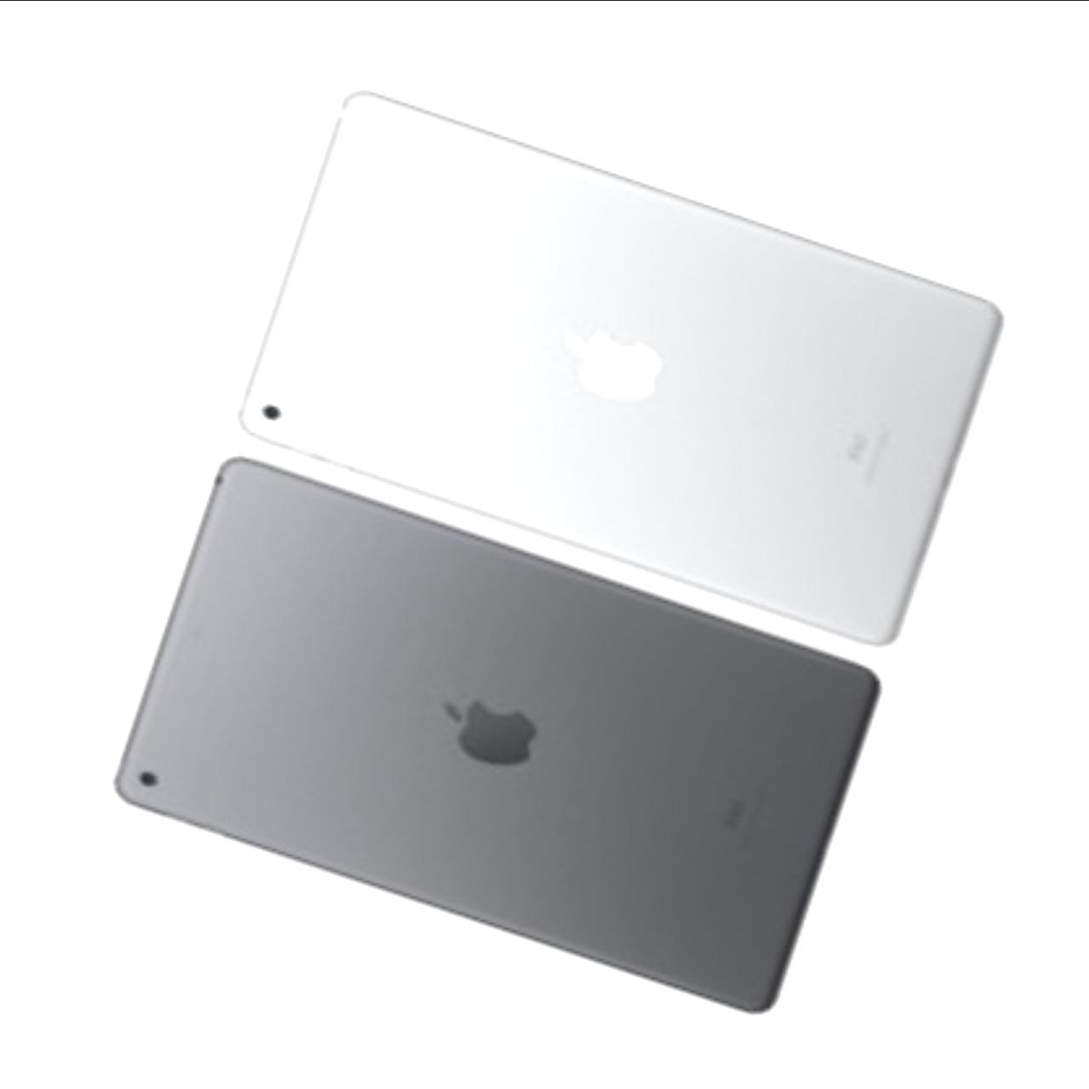Tablet_PC: (215, 71, 1021, 678), (96, 435, 904, 1032)
